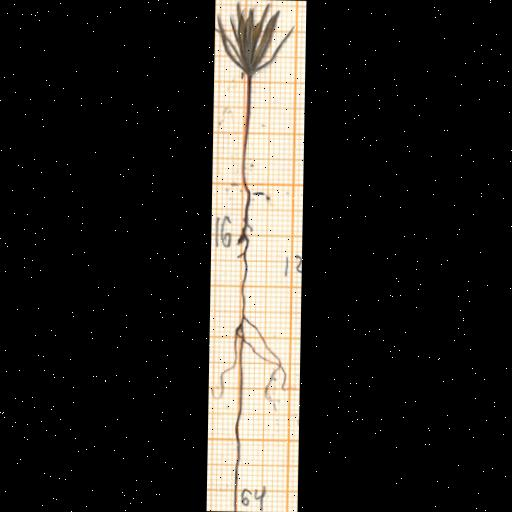flowerPinus: (217, 4, 292, 76)
rootPinus: (218, 191, 286, 510)
stemPinus: (240, 77, 251, 192)
